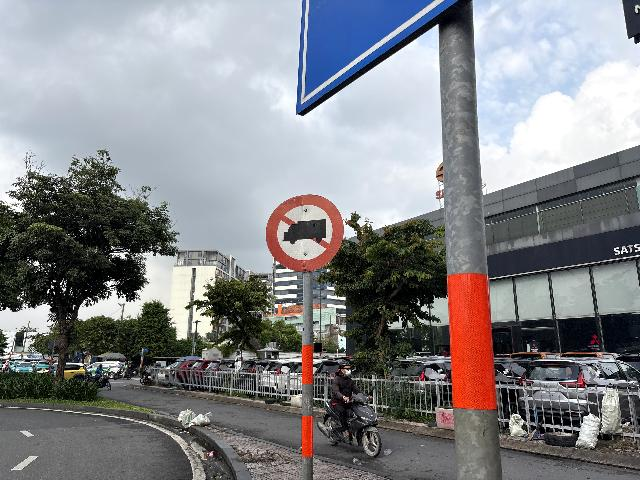cam-xe-tai: (266, 194, 344, 271)
